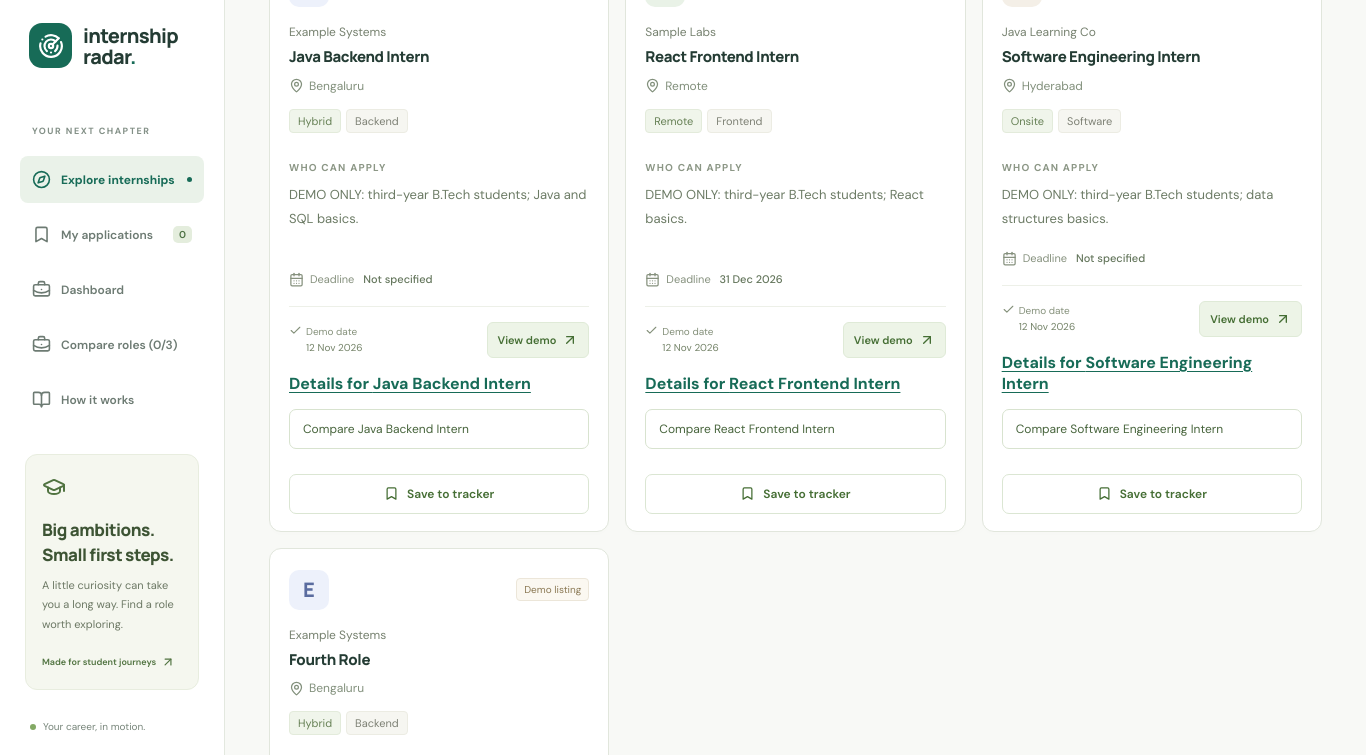
Test: details and comparison integrated with the existing app › opens details from Explore and returns without resetting its search state
(page scrolled)
Step 1. Click the link "Details for Java Backend Intern" → (410, 383), box [289,373,531,394]
(page scrolled)
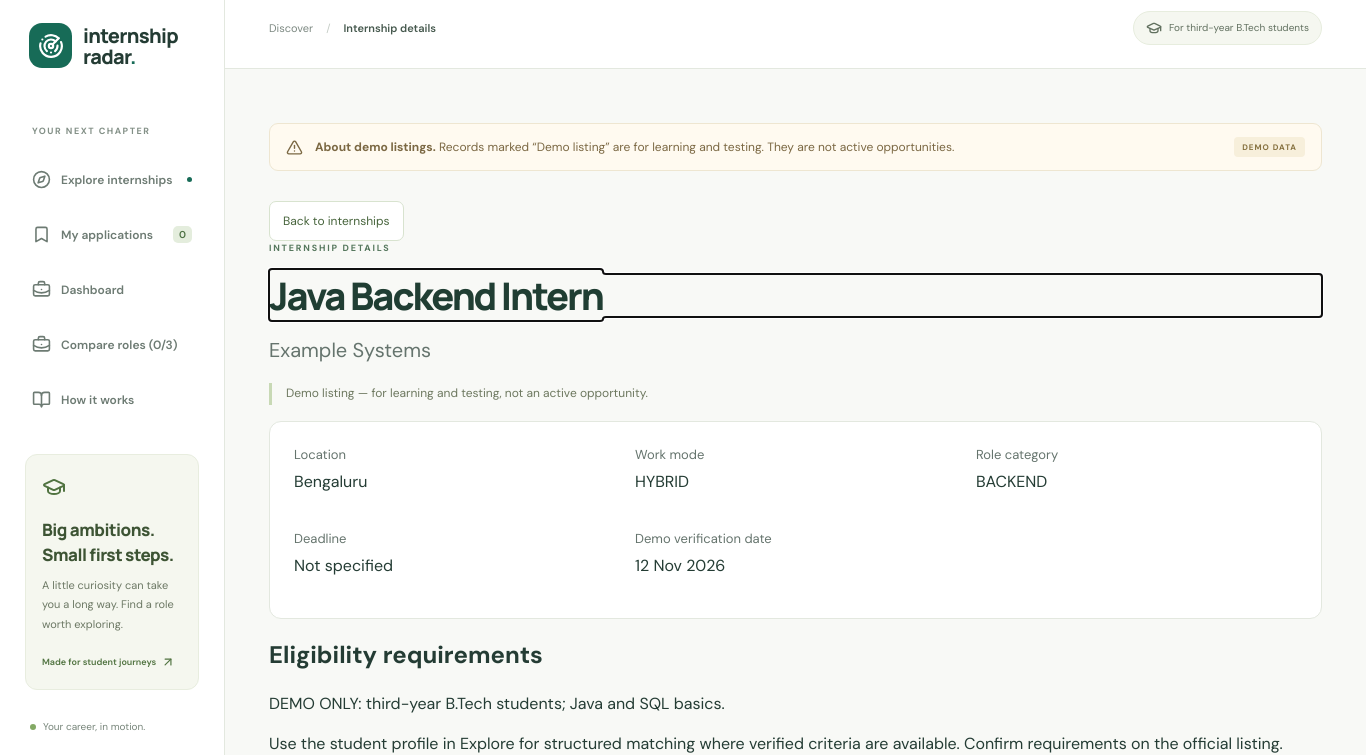
Expected: the heading "Java Backend Intern" is shown, [269,269,603,321]
Step 2. Click the button "Back to internships" → (336, 221), box [269,201,404,241]
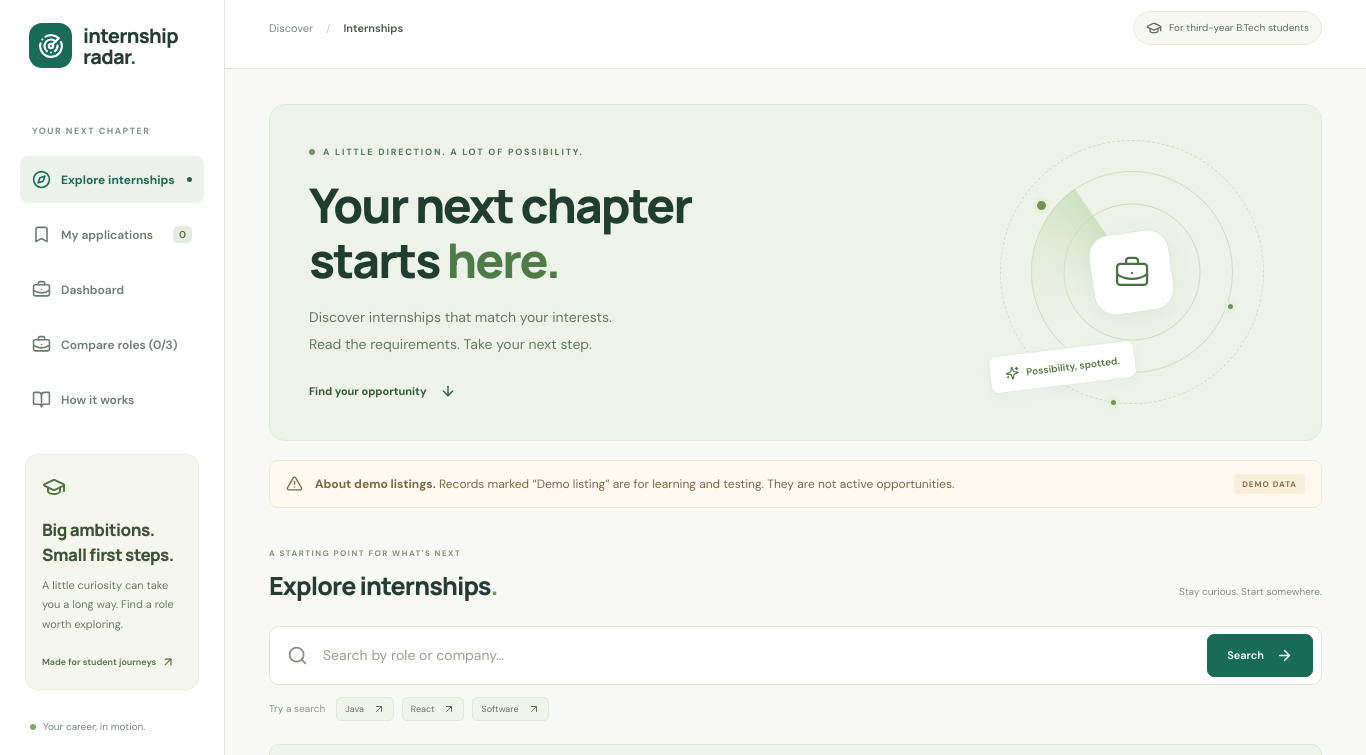
Expected: the heading "Explore internships." is shown, [269,568,498,603]
